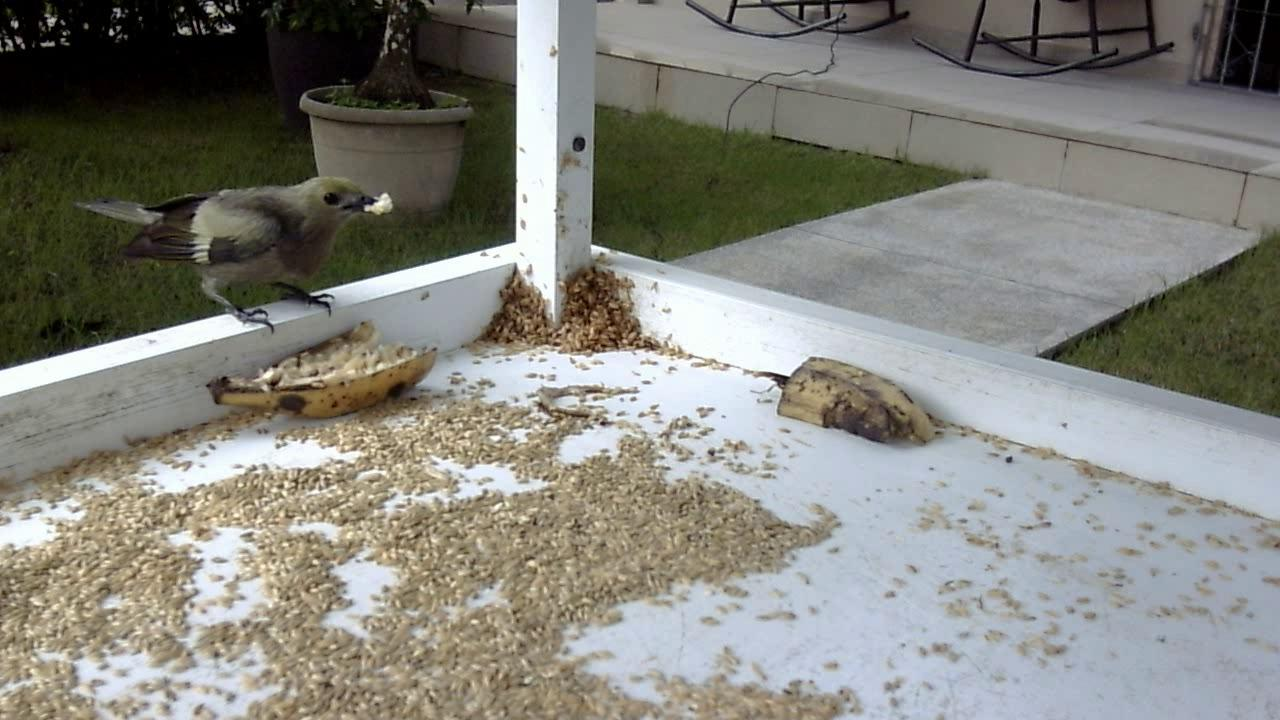sanhaco_do_coqueiro: (67, 168, 386, 343)
